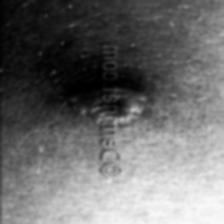Toxin: (69, 85, 148, 128)
